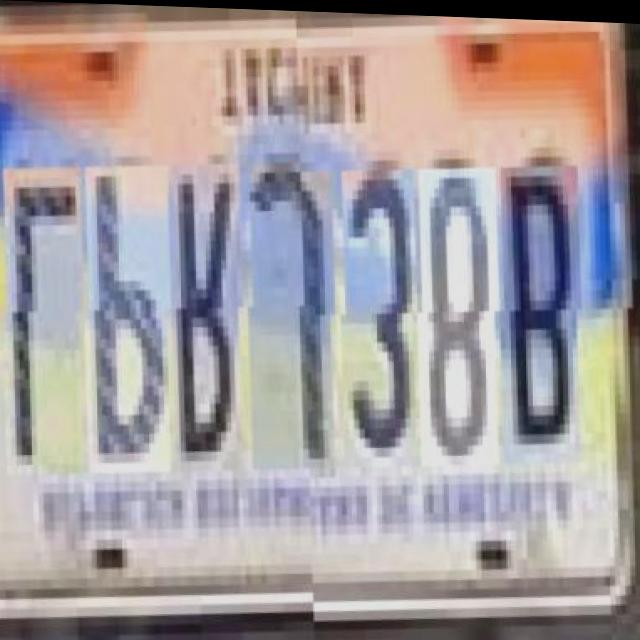3: (344, 161, 423, 463)
8: (421, 159, 505, 461)
b: (503, 158, 588, 460)
j: (252, 161, 341, 474)
l: (6, 166, 90, 479)
p: (87, 164, 178, 477)
r: (175, 164, 249, 475)
